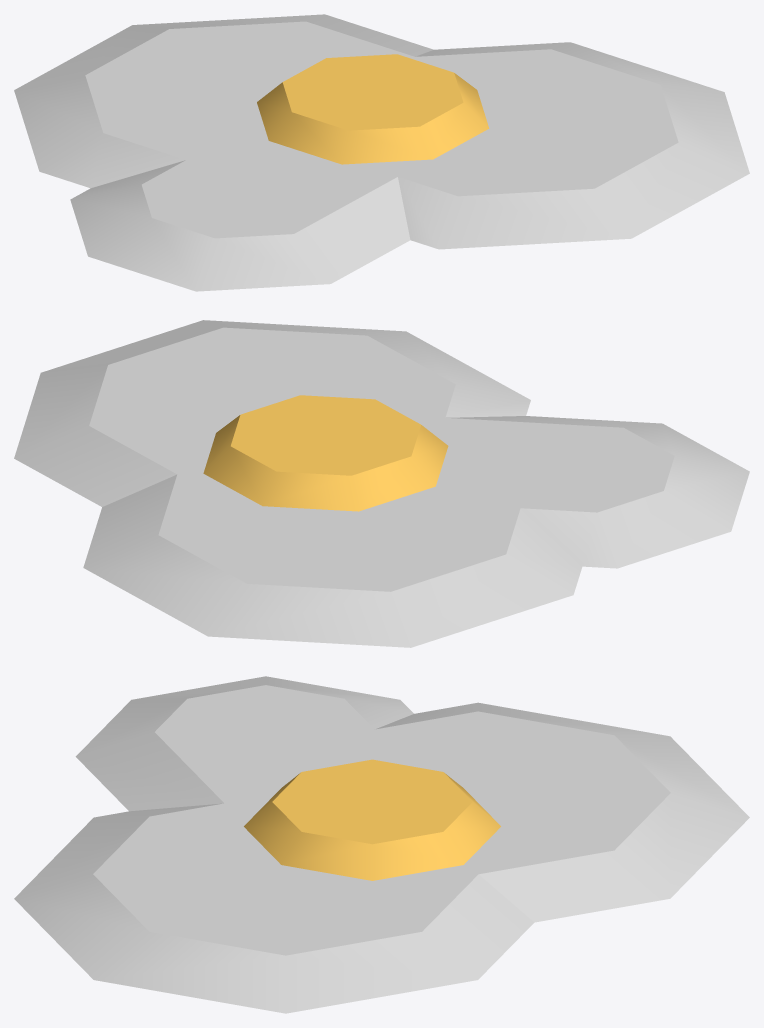
The model's file is eggCooked.dae.
The picture shows the model from 3 angles, top to bottom: view 1: azimuth 30°, elevation 25°; view 2: azimuth 150°, elevation 25°; view 3: azimuth 270°, elevation 25°; orthographic projection. The views are drawn at different scales.
Visible parts, largest first — view 1: eggCooked; view 2: eggCooked; view 3: eggCooked.
Part boxes in pixels (<box>): eggCooked: <box>14,14,749,291</box>; eggCooked: <box>14,320,749,647</box>; eggCooked: <box>14,676,749,1013</box>.
Bounding box in the file's own units: 0.4141 × 0.0282 × 0.3817.
